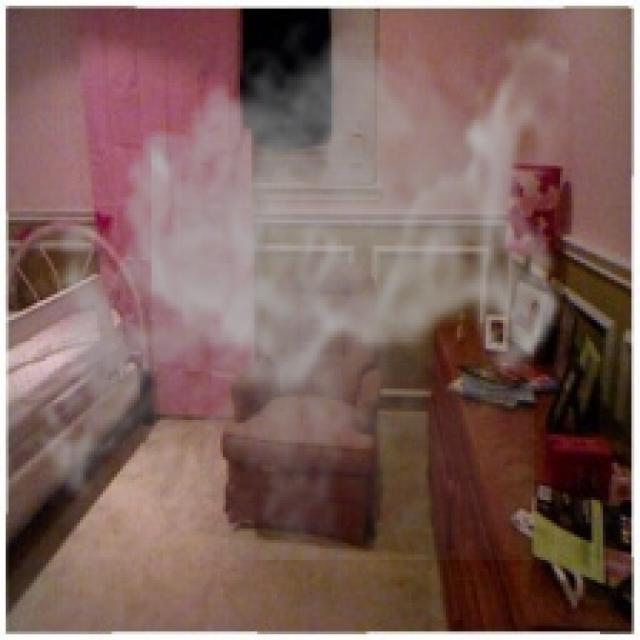Smoke: (22, 8, 568, 560)
